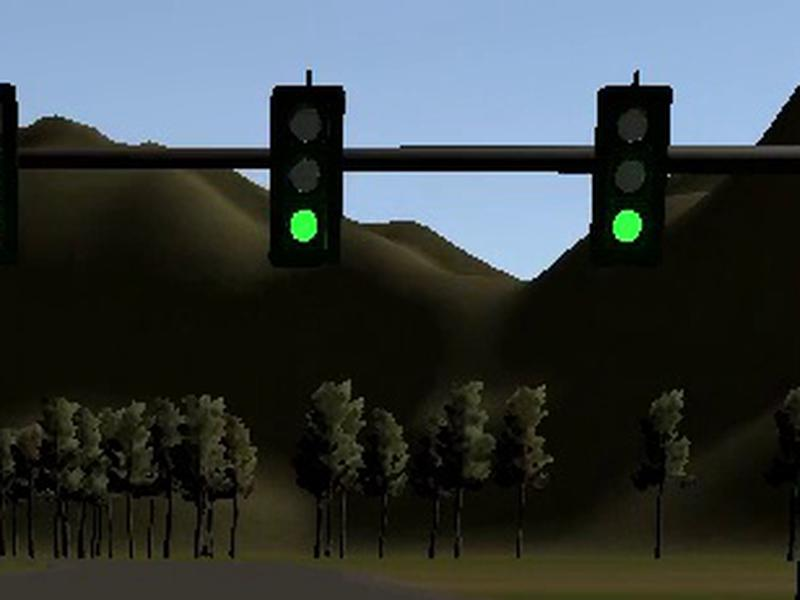Green: (591, 85, 672, 267), (269, 85, 346, 267)
